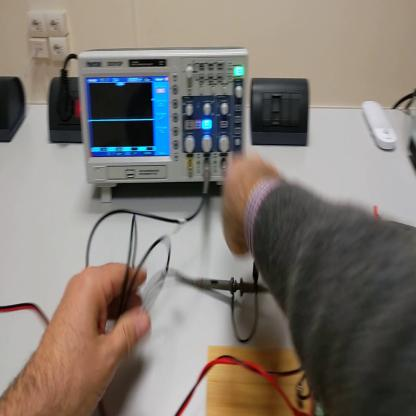hand: (22, 260, 152, 416), (221, 148, 281, 257)
low voltage board: (297, 385, 325, 413)
oscilloscope: (77, 48, 249, 202)
oscilloscope probe tip: (175, 277, 264, 296)
socket: (47, 78, 85, 144), (1, 74, 30, 145)
welder station: (410, 117, 416, 168)
working area: (208, 344, 312, 414)
